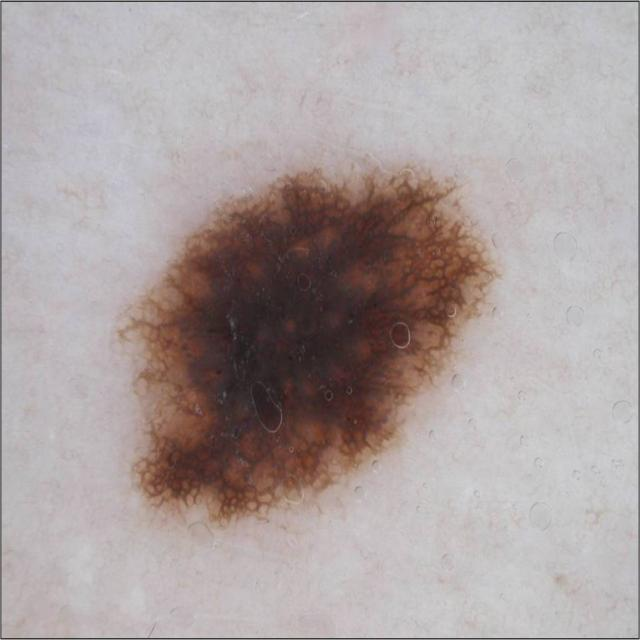Benign: (112, 165, 504, 534)
